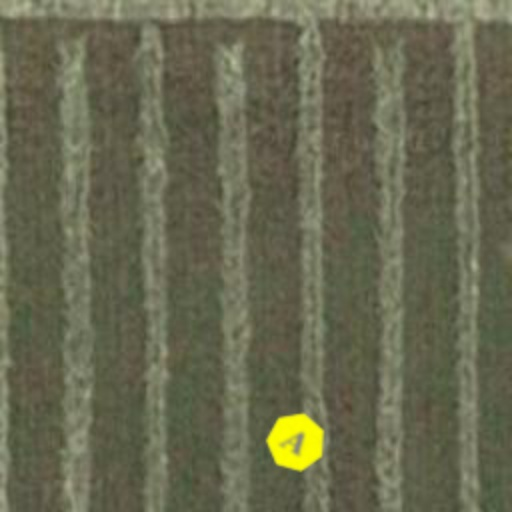heptagon: (254, 400, 338, 484)
